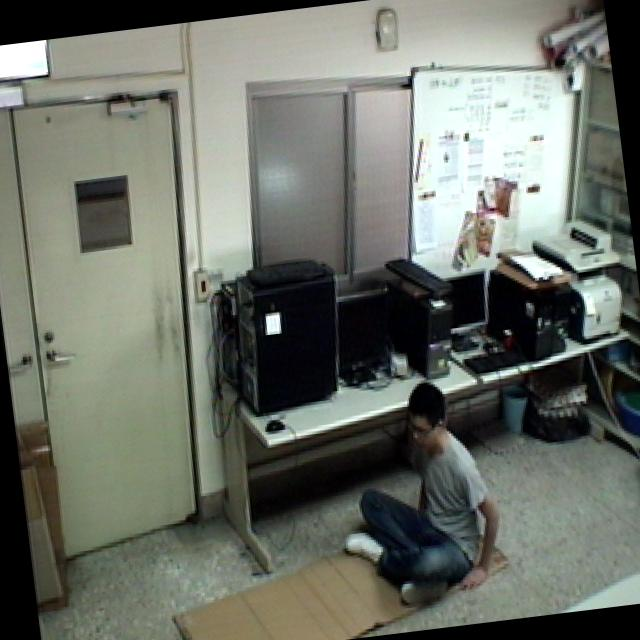sit: (315, 366, 513, 623)
